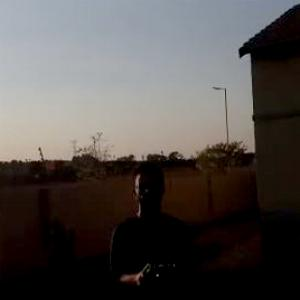follow: (106, 155, 203, 299)
